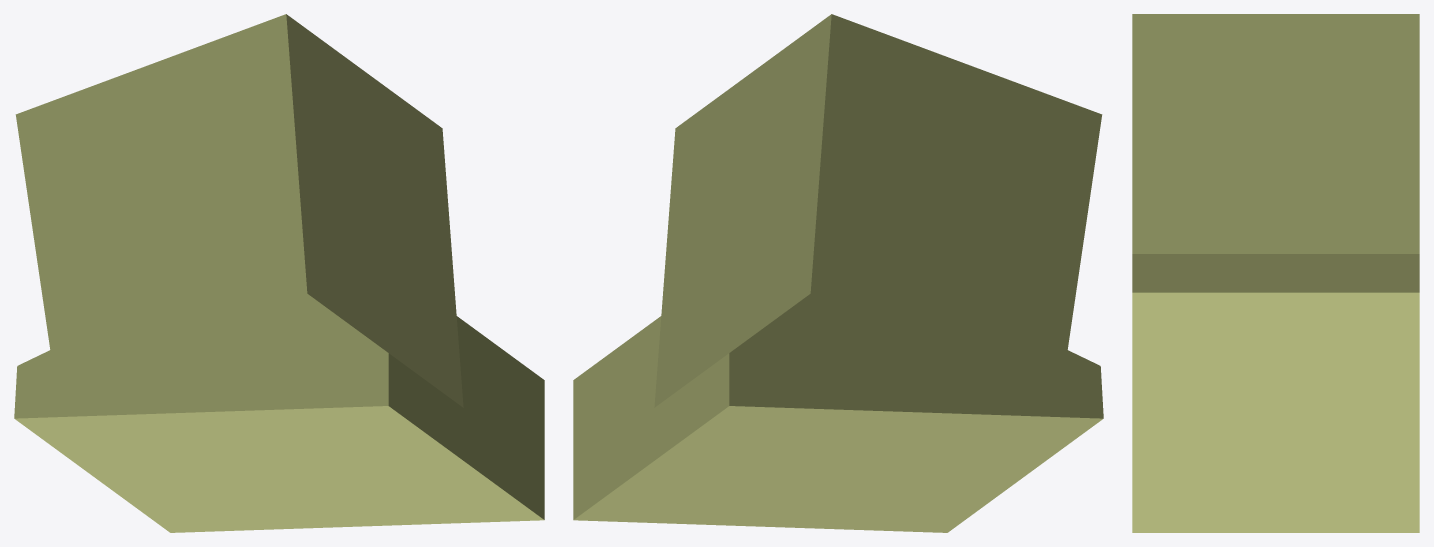
3 views of the same model, side by side, from view 1: azimuth 30°, elevation 25°; view 2: azimuth 150°, elevation 25°; view 3: azimuth 270°, elevation 25° (orthographic). The views are drawn at different scales.
Visible parts, largest first — view 1: 0_3_0_1_1_1_0_1_3; view 2: 0_3_0_1_1_1_0_1_3; view 3: 0_3_0_1_1_1_0_1_3.
Part boxes in pixels (x1,y1,x2,y2): 0_3_0_1_1_1_0_1_3: [14, 14, 544, 532]; 0_3_0_1_1_1_0_1_3: [573, 14, 1103, 532]; 0_3_0_1_1_1_0_1_3: [1132, 14, 1419, 532].
Bounding box in the file's own units: 12.45 × 13.25 × 9.
